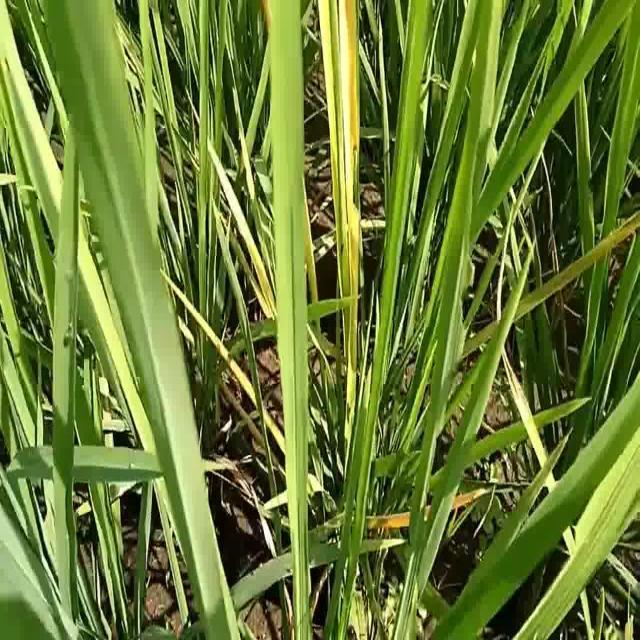Rice Tungro: (203, 129, 275, 316), (338, 1, 368, 358), (316, 4, 346, 309)
